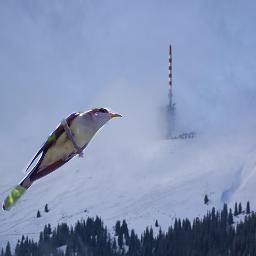Cuckoo: (2, 107, 122, 211)
